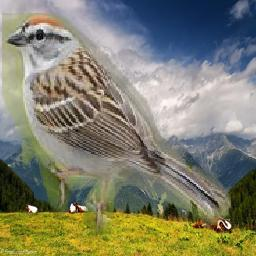Sparrow: (3, 13, 232, 235)
